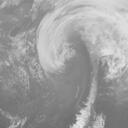cyclone: (36, 8, 126, 81)
